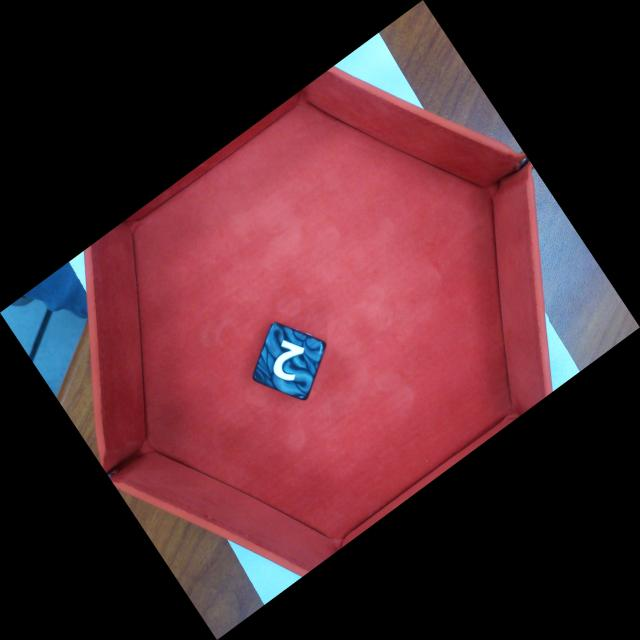dice: (251, 321, 327, 402)
